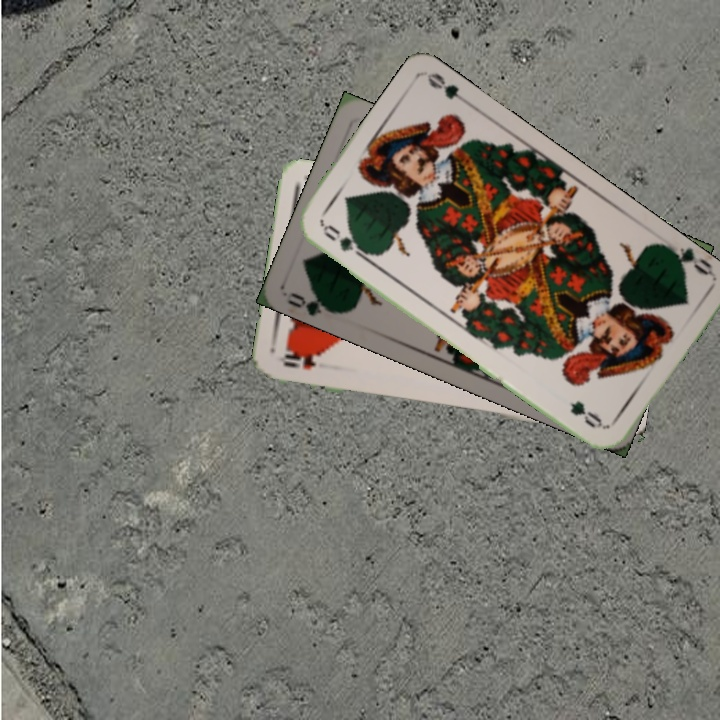GO: (318, 220, 372, 262), (661, 241, 716, 279), (283, 288, 343, 318)
HO: (276, 351, 319, 373)
